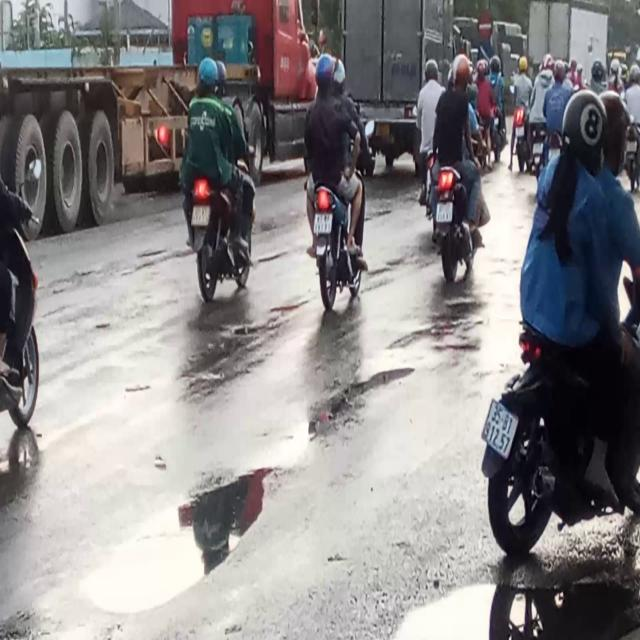bien_trang: (476, 395, 518, 453)
